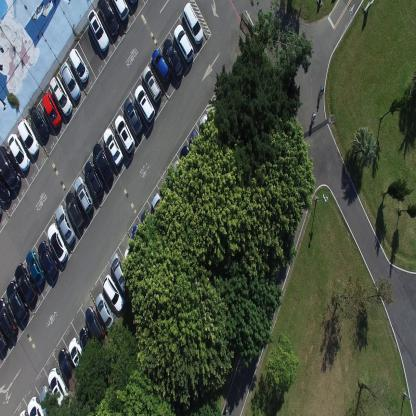car: (0, 145, 22, 191), (5, 280, 28, 324), (49, 75, 73, 117), (182, 1, 204, 46), (14, 262, 37, 304), (6, 133, 30, 172), (87, 10, 109, 52), (162, 37, 184, 79), (48, 366, 70, 408), (102, 273, 125, 313), (16, 118, 40, 156), (92, 142, 113, 184), (97, 0, 119, 40), (54, 205, 76, 245), (58, 348, 80, 388), (173, 24, 194, 64), (114, 114, 135, 154), (102, 128, 124, 166), (60, 61, 80, 102), (110, 253, 130, 294), (83, 160, 104, 199), (47, 223, 67, 263), (95, 292, 115, 332), (134, 84, 155, 122), (123, 97, 143, 136), (65, 191, 85, 230), (28, 104, 49, 141), (142, 66, 162, 104), (73, 175, 93, 213), (37, 241, 57, 279), (25, 249, 45, 287), (68, 48, 89, 84), (151, 48, 171, 85), (68, 337, 88, 374), (41, 92, 61, 128), (85, 306, 105, 342), (0, 298, 17, 338), (79, 325, 98, 360), (151, 191, 170, 225), (199, 113, 218, 146), (180, 143, 199, 176), (140, 207, 158, 239), (131, 224, 150, 254), (39, 385, 58, 415), (189, 127, 207, 158), (171, 158, 188, 188), (124, 244, 141, 273), (111, 0, 130, 22), (27, 395, 45, 415), (0, 178, 12, 204), (0, 330, 7, 352), (126, 0, 138, 9)
